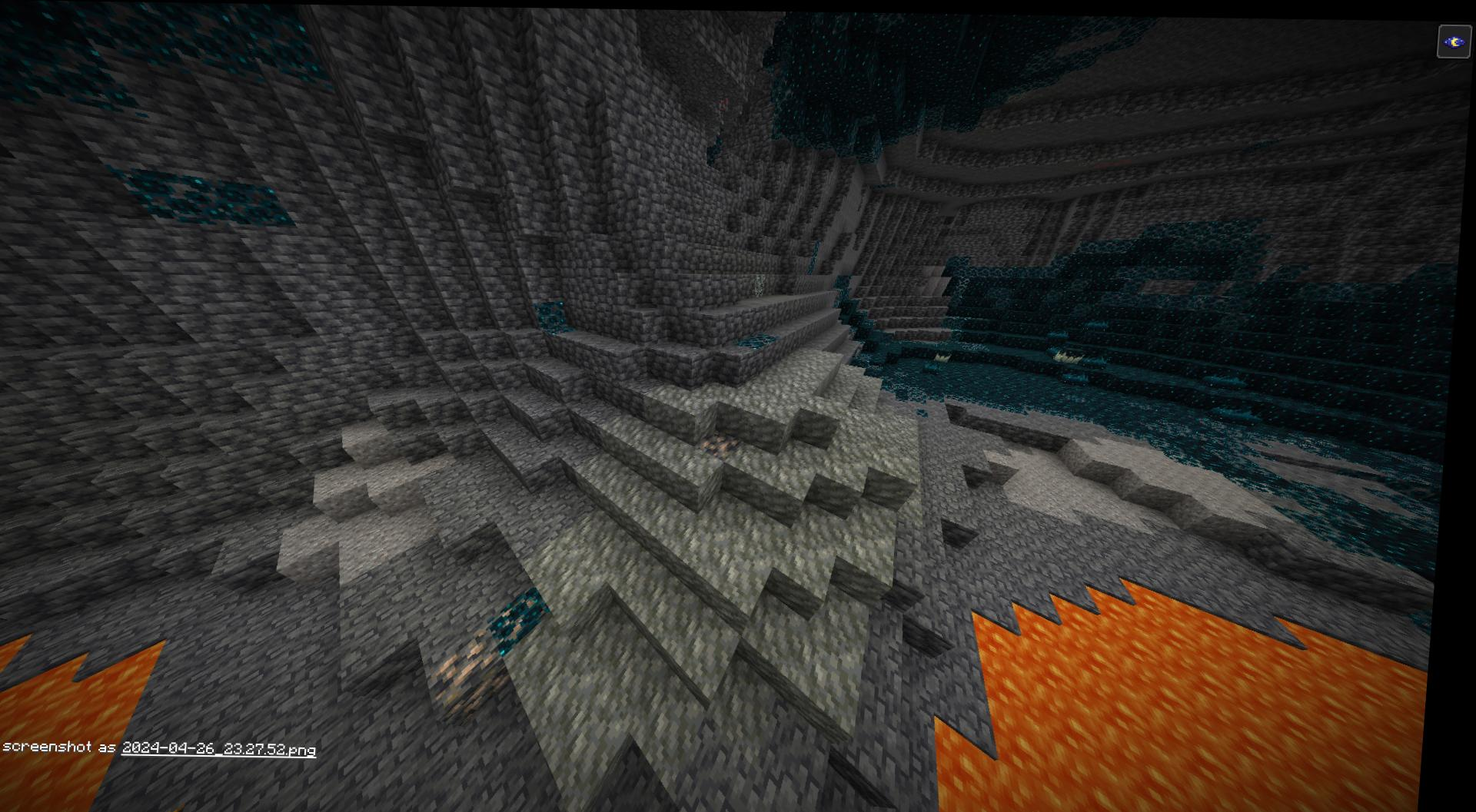iron ore: (442, 629, 520, 714), (707, 427, 747, 460)
